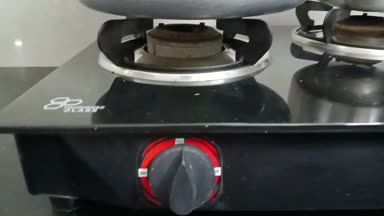noflame_gason: (112, 15, 239, 216)
